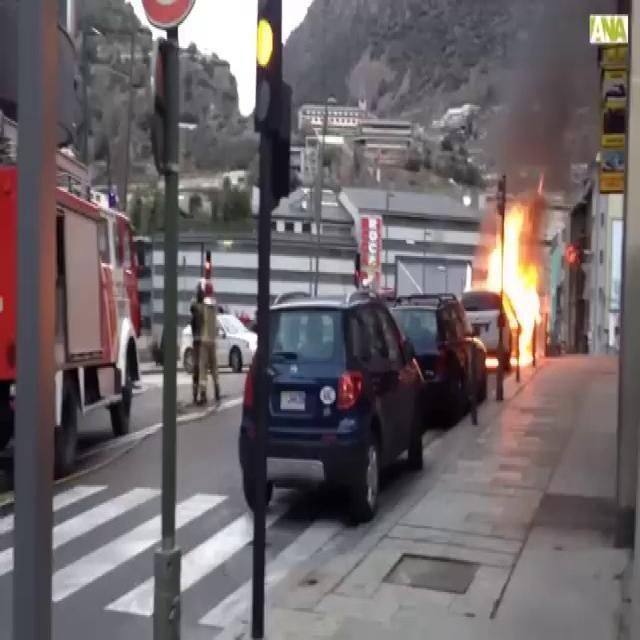Fire: (479, 198, 546, 366)
Smoke: (477, 0, 599, 197)
